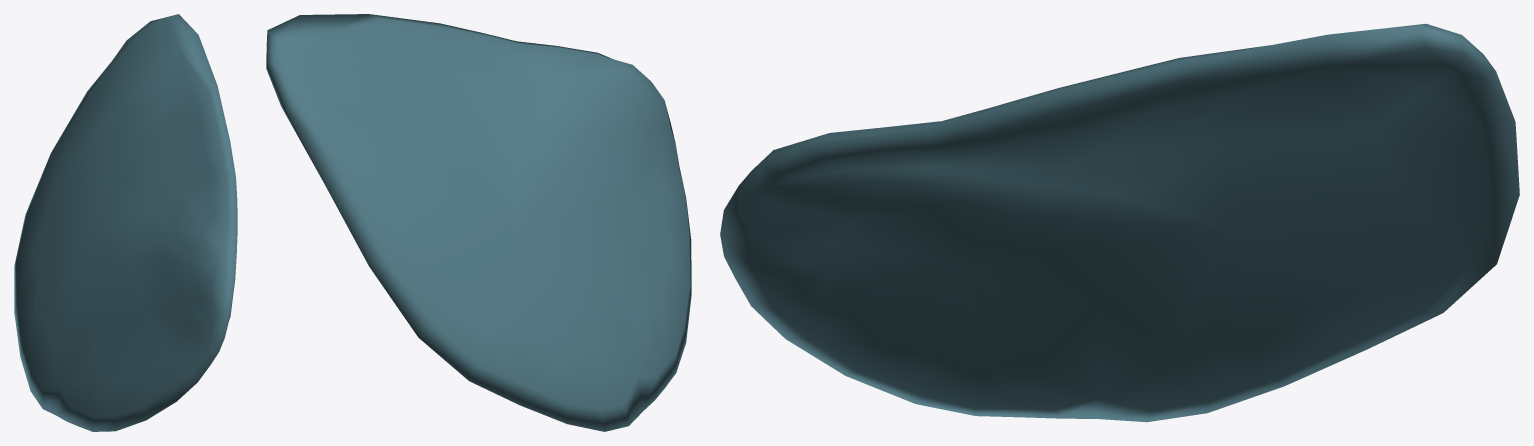
Rendered from Fibularis_tertius_5th_metatarsal_tuberosity_right.glb.
The picture shows the model from 3 angles, left to right: view 1: azimuth 30°, elevation 25°; view 2: azimuth 150°, elevation 25°; view 3: azimuth 270°, elevation 25°; orthographic projection. The views are drawn at different scales.
Parts seen in each view (by area): view 1: Fibularis_tertius_on_tuberosity_of_fifth_metatarsal_bone.r_G; view 2: Fibularis_tertius_on_tuberosity_of_fifth_metatarsal_bone.r_G; view 3: Fibularis_tertius_on_tuberosity_of_fifth_metatarsal_bone.r_G.
Boxes of the visible parts, x1,y1,x2,y2 form: Fibularis_tertius_on_tuberosity_of_fifth_metatarsal_bone.r_G: (14, 14, 237, 431); Fibularis_tertius_on_tuberosity_of_fifth_metatarsal_bone.r_G: (266, 14, 691, 431); Fibularis_tertius_on_tuberosity_of_fifth_metatarsal_bone.r_G: (720, 23, 1519, 422).
Size of the model in its own units: 0.00582 by 0.00809 by 0.0099.
